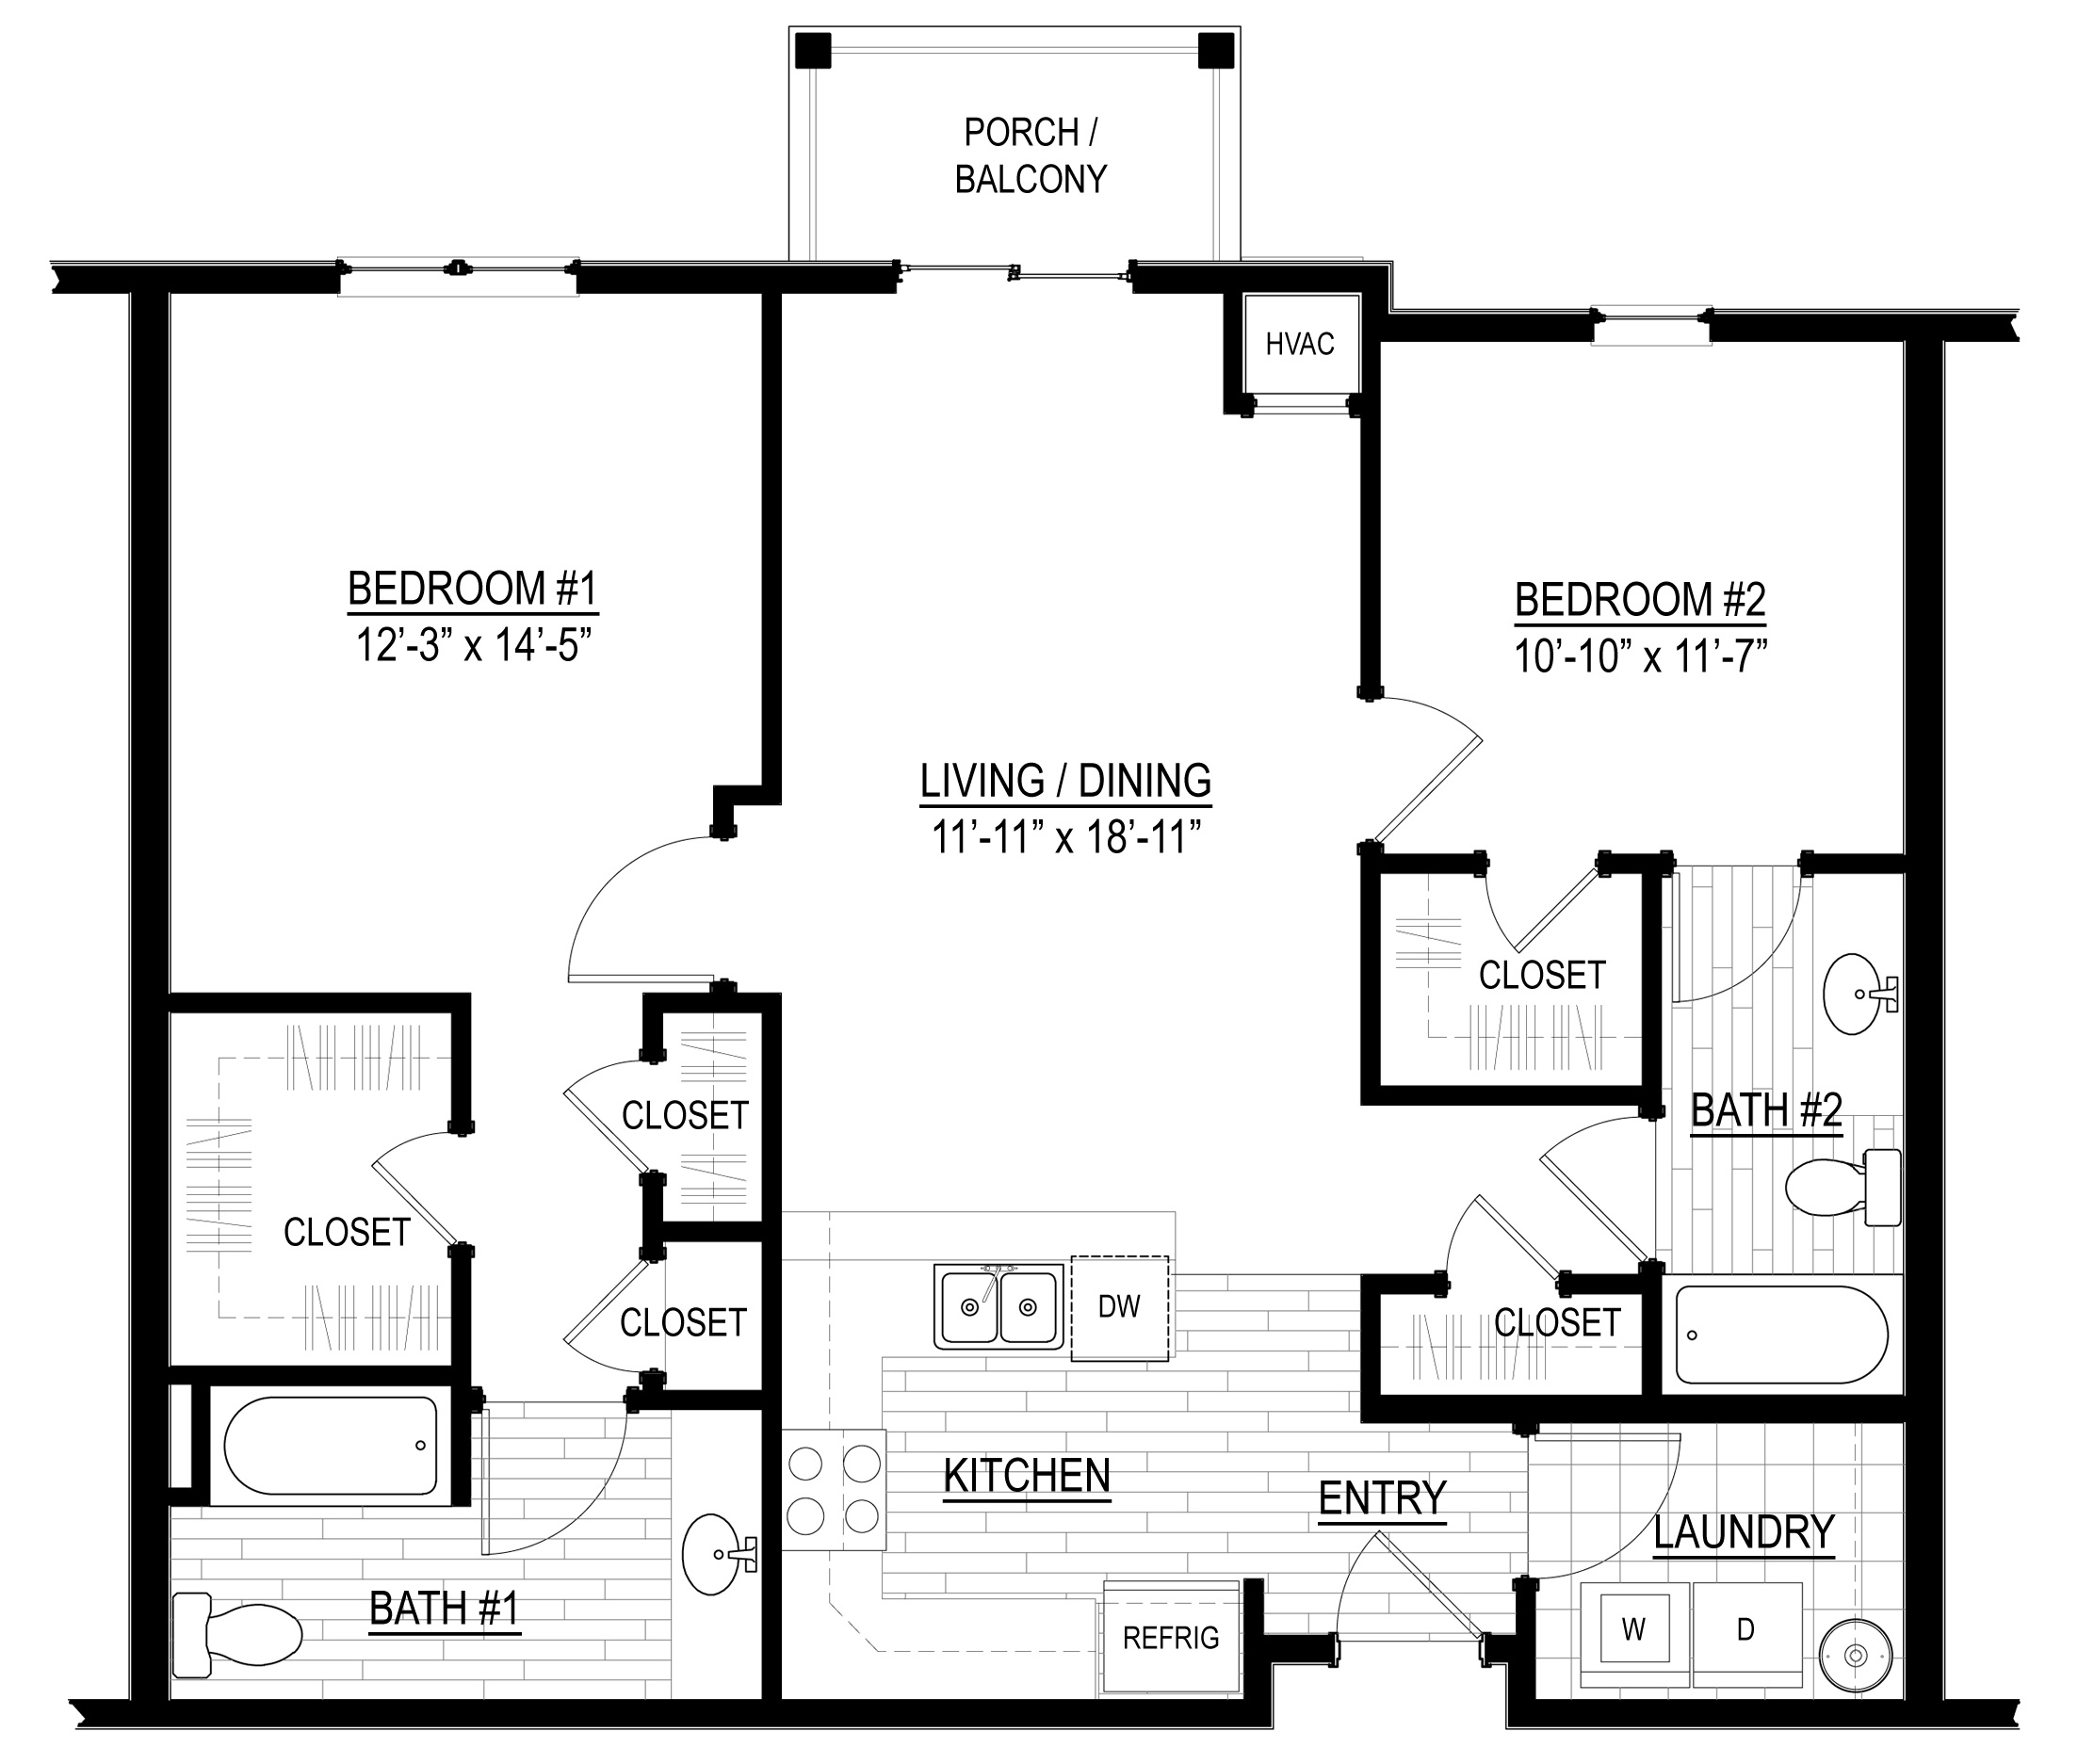door: (541, 828, 700, 994), (483, 1410, 639, 1570), (1530, 1120, 1656, 1244), (537, 1255, 665, 1374), (1399, 679, 1499, 819), (548, 1034, 649, 1169), (1436, 1179, 1549, 1279), (1546, 1433, 1700, 1505), (1476, 878, 1590, 950), (362, 1123, 439, 1200)
window: (1602, 304, 1712, 355)
